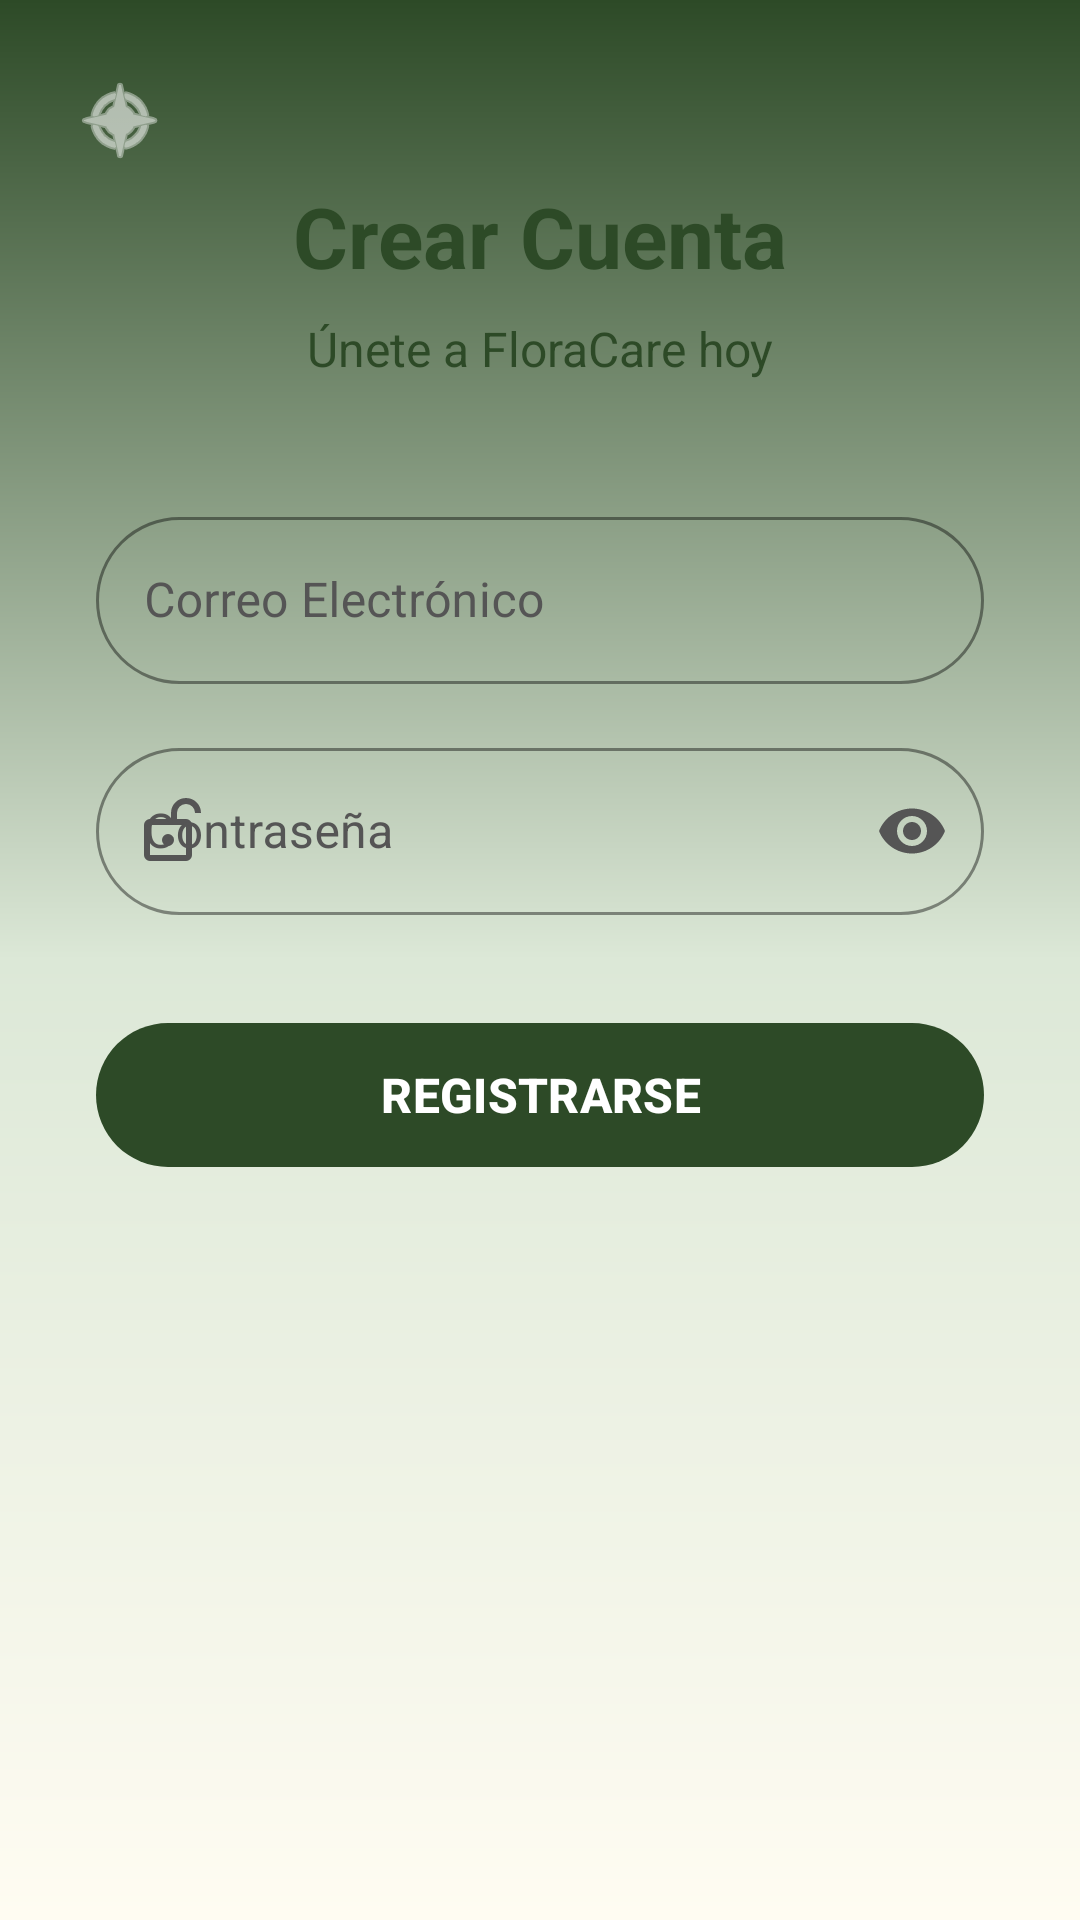

Icon click points for this 1080 x 1920 phone screenshot, format point (x, y):
compass: point (119, 120)
